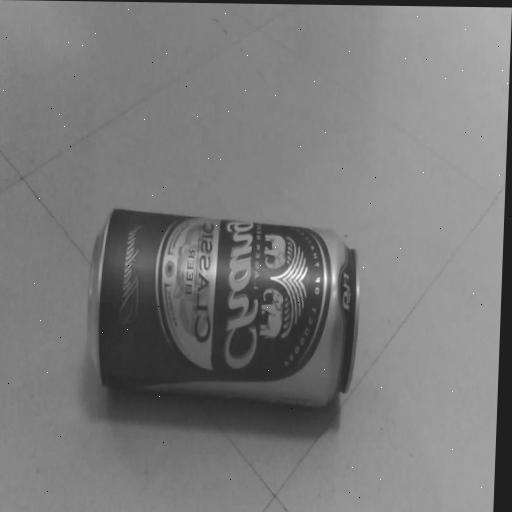canned: (72, 193, 376, 441)
